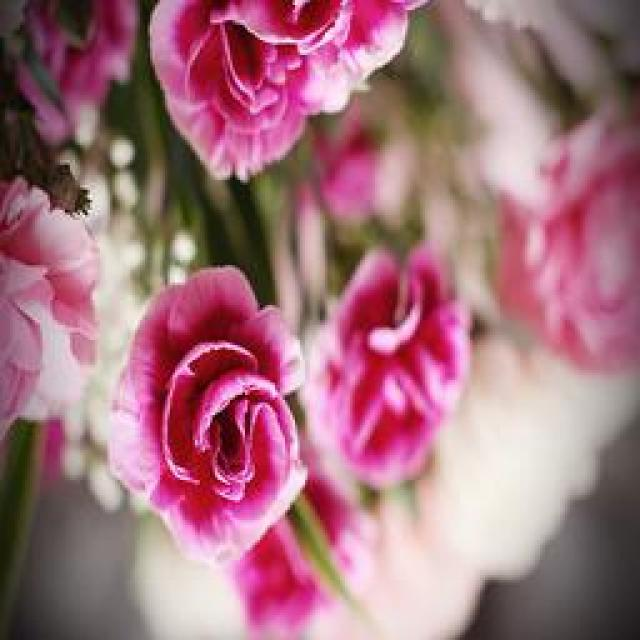carnation: (98, 257, 324, 561)
